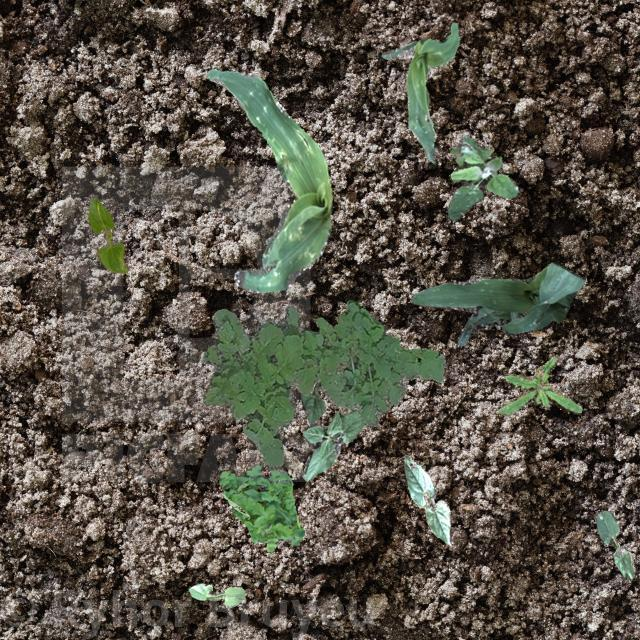crop: (207, 68, 331, 292), (411, 262, 584, 346), (381, 21, 458, 162), (302, 408, 364, 479), (403, 454, 451, 544), (88, 196, 126, 272), (592, 511, 634, 578), (188, 582, 244, 606), (300, 381, 324, 424)
weed: (202, 298, 444, 470), (218, 464, 304, 550), (447, 133, 518, 220), (496, 354, 582, 414)
